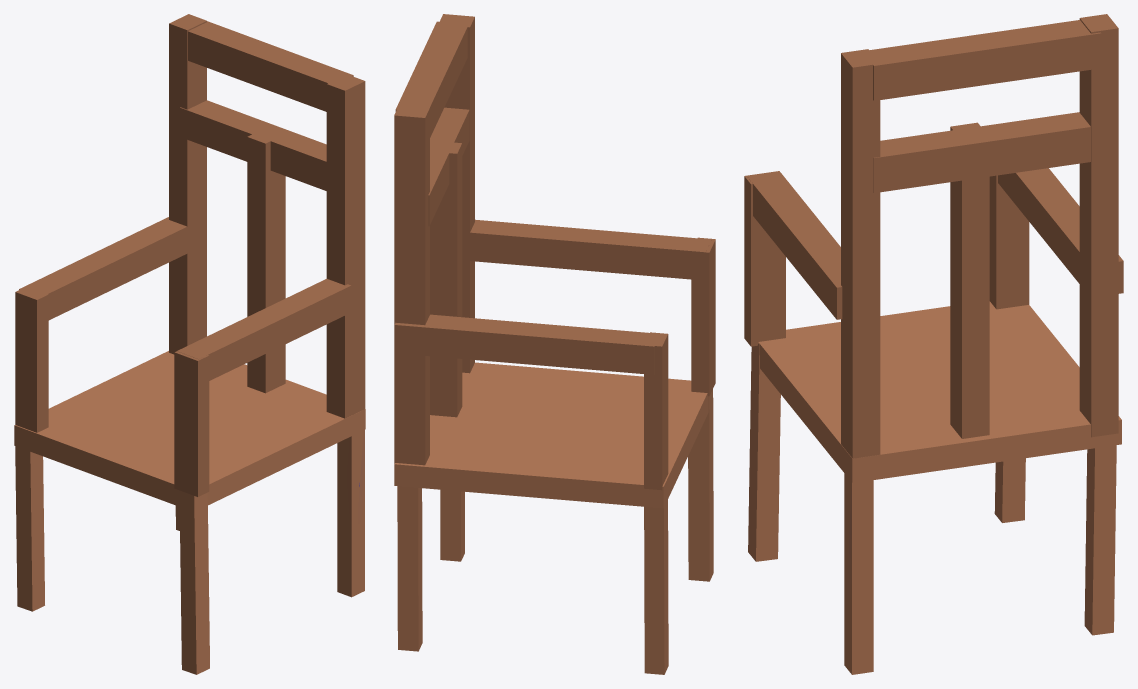
The model's file is chair.glb.
The picture shows the model from 3 angles, left to right: view 1: azimuth 30°, elevation 25°; view 2: azimuth 150°, elevation 25°; view 3: azimuth 270°, elevation 25°; orthographic projection. The views are drawn at different scales.
Parts seen in each view (by area): view 1: node_id12, mesh_id48, mesh_id54, mesh_id94, mesh_id70, mesh_id58, mesh_id85, mesh_id56, node_id4, mesh_id73, node_id6, node_id8 (+1 smaller); view 2: node_id12, mesh_id54, mesh_id70, mesh_id58, mesh_id94, node_id10, node_id6, node_id4, mesh_id85, mesh_id48, mesh_id73, mesh_id79 (+2 smaller); view 3: node_id12, mesh_id48, mesh_id54, mesh_id85, mesh_id56, mesh_id94, mesh_id58, node_id8, node_id4, node_id10, mesh_id70, mesh_id73 (+2 smaller).
Part boxes in pixels (x1,y1,x2,y2): node_id12: [14, 351, 365, 506]; mesh_id48: [326, 76, 365, 418]; mesh_id54: [169, 14, 206, 354]; mesh_id94: [247, 134, 285, 393]; mesh_id70: [19, 217, 206, 320]; mesh_id58: [177, 278, 351, 380]; mesh_id85: [188, 21, 353, 111]; mesh_id56: [180, 100, 326, 190]; node_id4: [179, 490, 209, 674]; mesh_id73: [174, 351, 209, 496]; node_id6: [15, 427, 44, 611]; node_id8: [337, 413, 364, 597]; node_id12: [394, 362, 708, 508]; mesh_id54: [394, 105, 429, 465]; mesh_id70: [394, 314, 659, 374]; mesh_id58: [466, 219, 711, 279]; mesh_id94: [430, 142, 462, 417]; node_id10: [397, 486, 422, 651]; node_id6: [644, 481, 668, 674]; node_id4: [688, 389, 713, 581]; mesh_id85: [395, 21, 468, 137]; mesh_id48: [439, 14, 474, 373]; mesh_id73: [691, 237, 715, 396]; mesh_id79: [644, 332, 668, 490]; node_id12: [758, 301, 1121, 482]; mesh_id48: [841, 49, 880, 458]; mesh_id54: [1079, 14, 1118, 437]; mesh_id85: [862, 20, 1101, 100]; mesh_id56: [873, 112, 1090, 193]; mesh_id94: [950, 122, 989, 438]; mesh_id58: [748, 172, 842, 319]; node_id8: [844, 453, 873, 674]; node_id4: [748, 342, 780, 561]; node_id10: [1084, 445, 1116, 635]; mesh_id70: [998, 168, 1123, 297]; mesh_id73: [744, 171, 785, 346].
Size of the model in its own units: 0.6351 by 1.11 by 0.6248.
12 materials, 12 textured.
